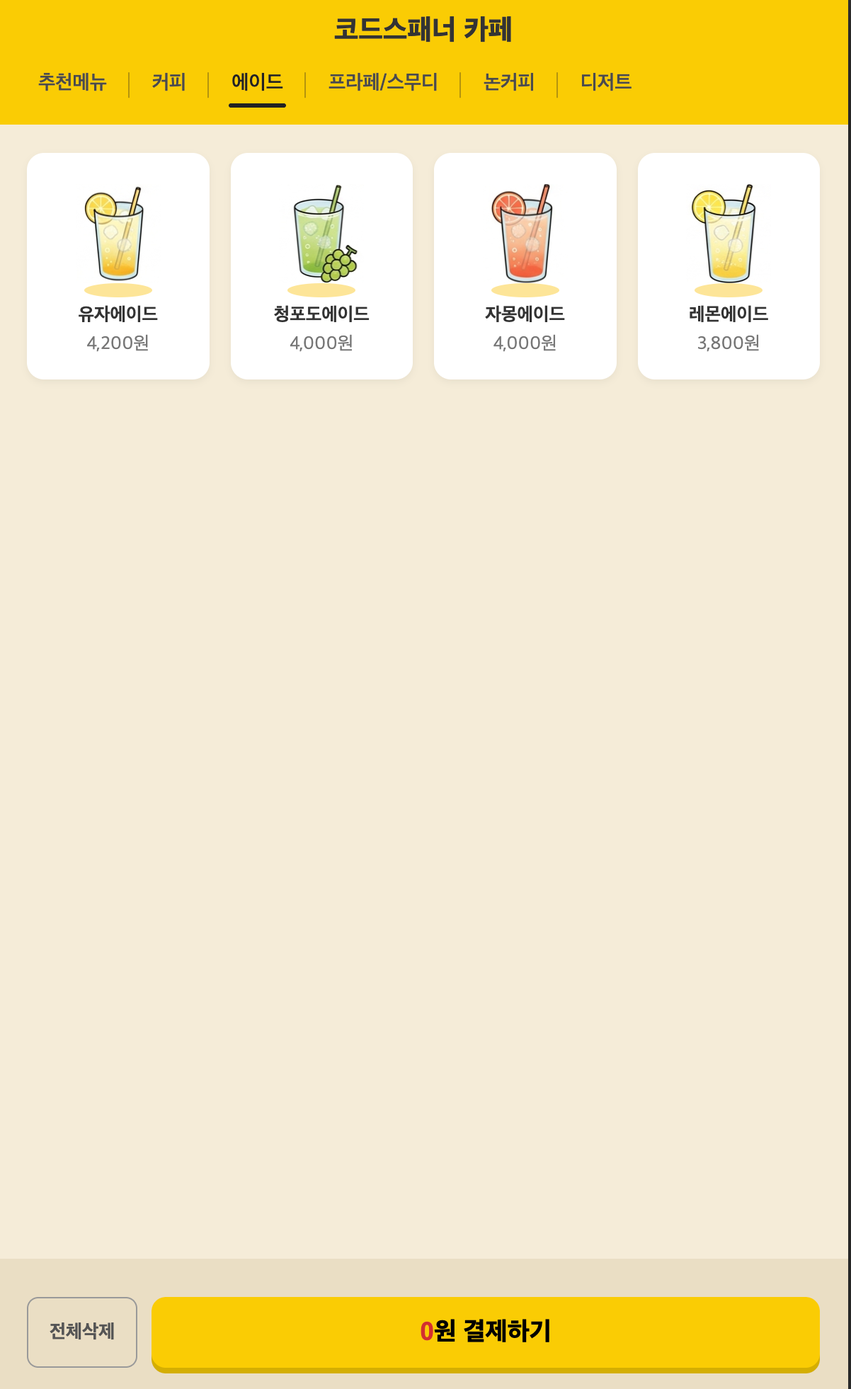action_button: (151, 1297, 821, 1374), (27, 1297, 137, 1368)
category_tab: (327, 72, 438, 93), (38, 72, 107, 94), (231, 72, 285, 92), (580, 73, 633, 93), (484, 72, 534, 93), (152, 72, 186, 93)
menu_back: (636, 152, 820, 379), (434, 153, 618, 380), (230, 153, 414, 380), (26, 153, 210, 380)
menu_name: (273, 304, 370, 325), (483, 304, 566, 324), (688, 305, 771, 323), (78, 306, 158, 324)
menu_price: (85, 334, 150, 353), (289, 335, 354, 353), (696, 334, 760, 352), (493, 334, 557, 352)
